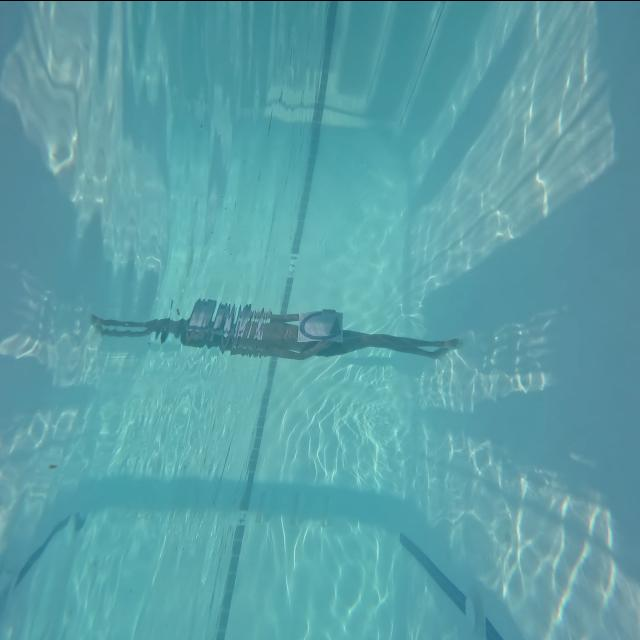blue_side: (295, 302, 352, 346)
